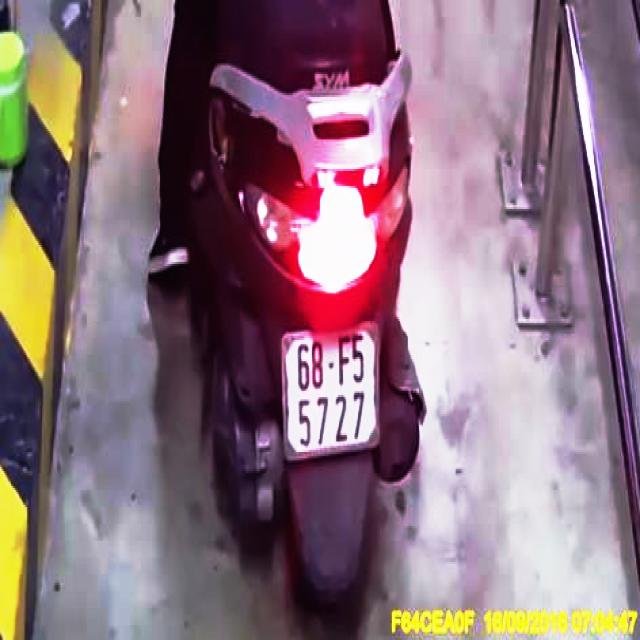license_plate: (284, 326, 384, 457)
